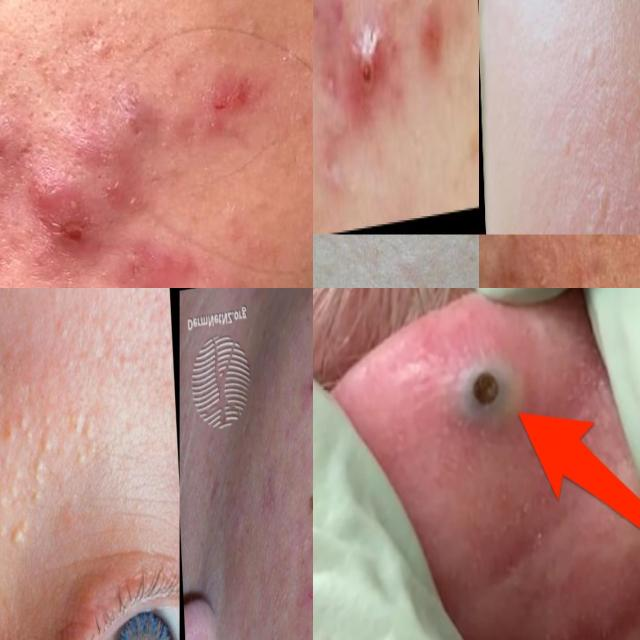comedone: (462, 367, 502, 422), (1, 82, 29, 120), (8, 38, 30, 79)
crystanlline: (43, 173, 84, 257), (116, 104, 177, 146)
flat_wart: (635, 69, 640, 99)
milium: (11, 400, 58, 455), (0, 463, 33, 511), (66, 405, 97, 446), (74, 436, 105, 474), (9, 512, 36, 548), (447, 235, 479, 262), (30, 458, 51, 496), (0, 516, 18, 554), (27, 486, 48, 514)
papule: (420, 0, 446, 76), (298, 368, 313, 405)
pustule: (347, 0, 387, 102)
